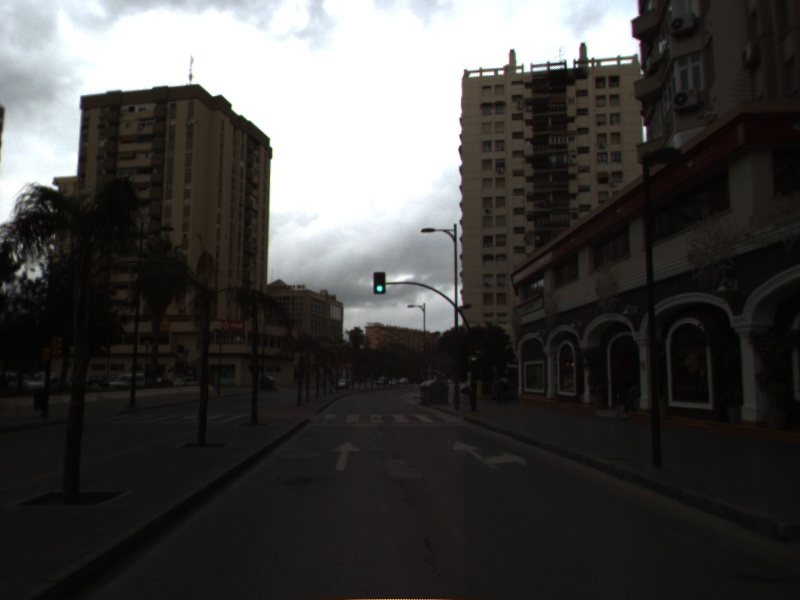STRAIGHT: (328, 439, 364, 472)
STRAIGHT_RIGHT: (451, 438, 529, 471)
